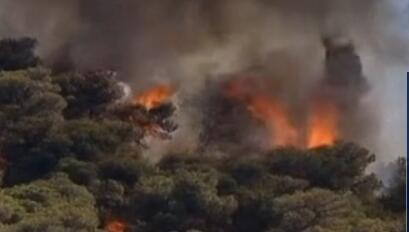fire: (234, 87, 340, 151)
smoke: (1, 0, 397, 192)
